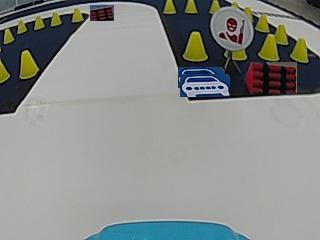evil: (210, 7, 252, 51)
